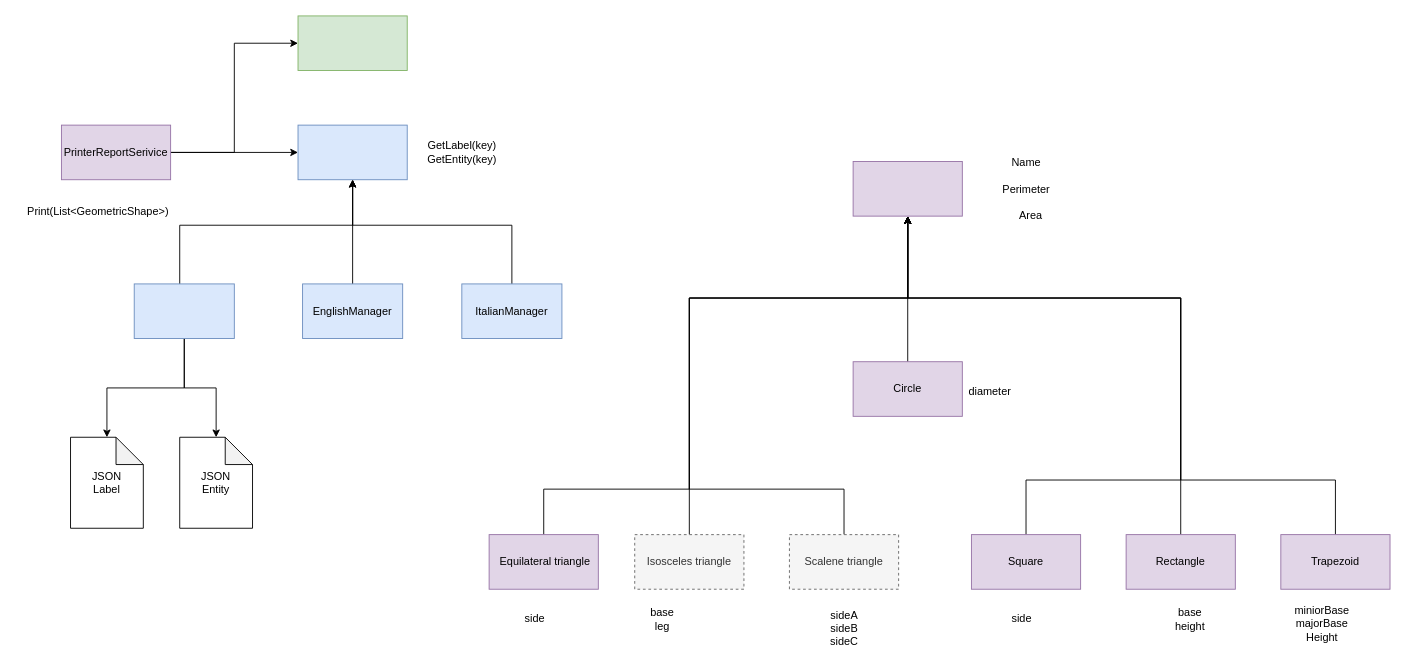
Some shapes in this 1406 by 672 pixel diagram are drawn without their labels. The centre of each missing label's shape, as x and y in pixels:
"GeometricShape" goes at (907,188).
"LanguageManager" goes at (352,152).
"ReportBuilder" goes at (352,43).
"SpanishManager" goes at (183,311).
